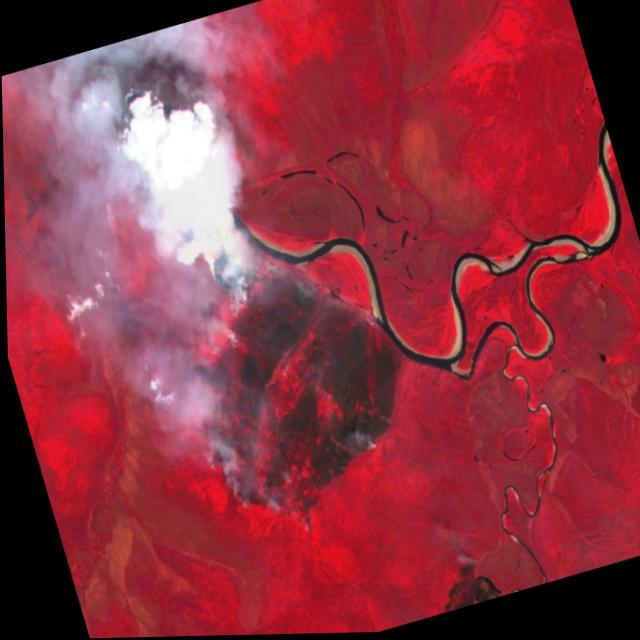fire: (144, 204, 441, 561)
